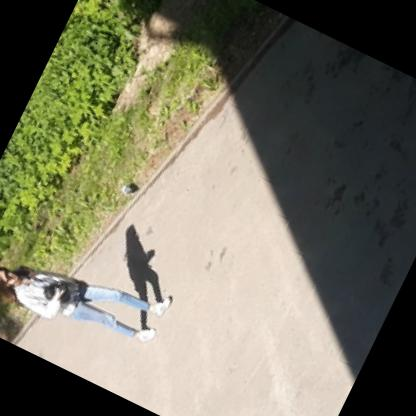Human Body: (0, 210, 185, 376)
